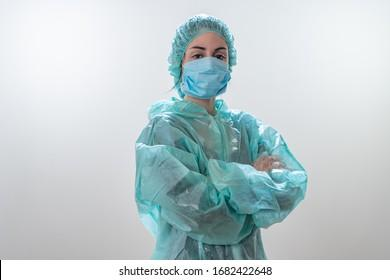gloves: (254, 154, 284, 172)
